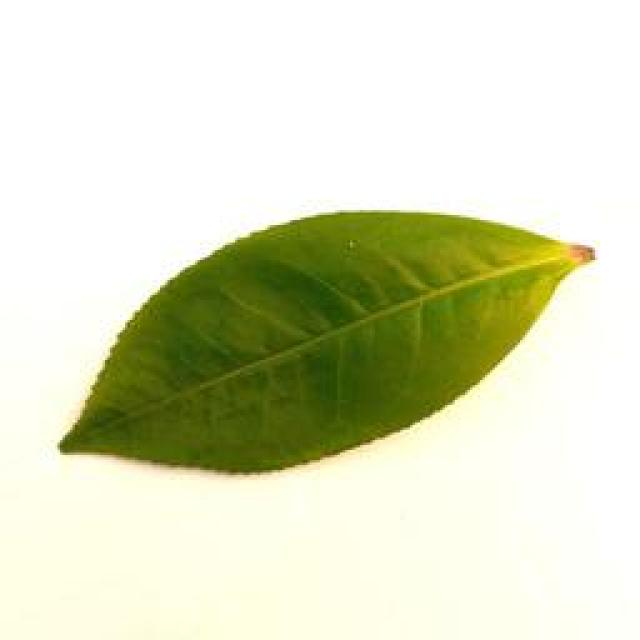Healthy: (62, 212, 587, 469)
